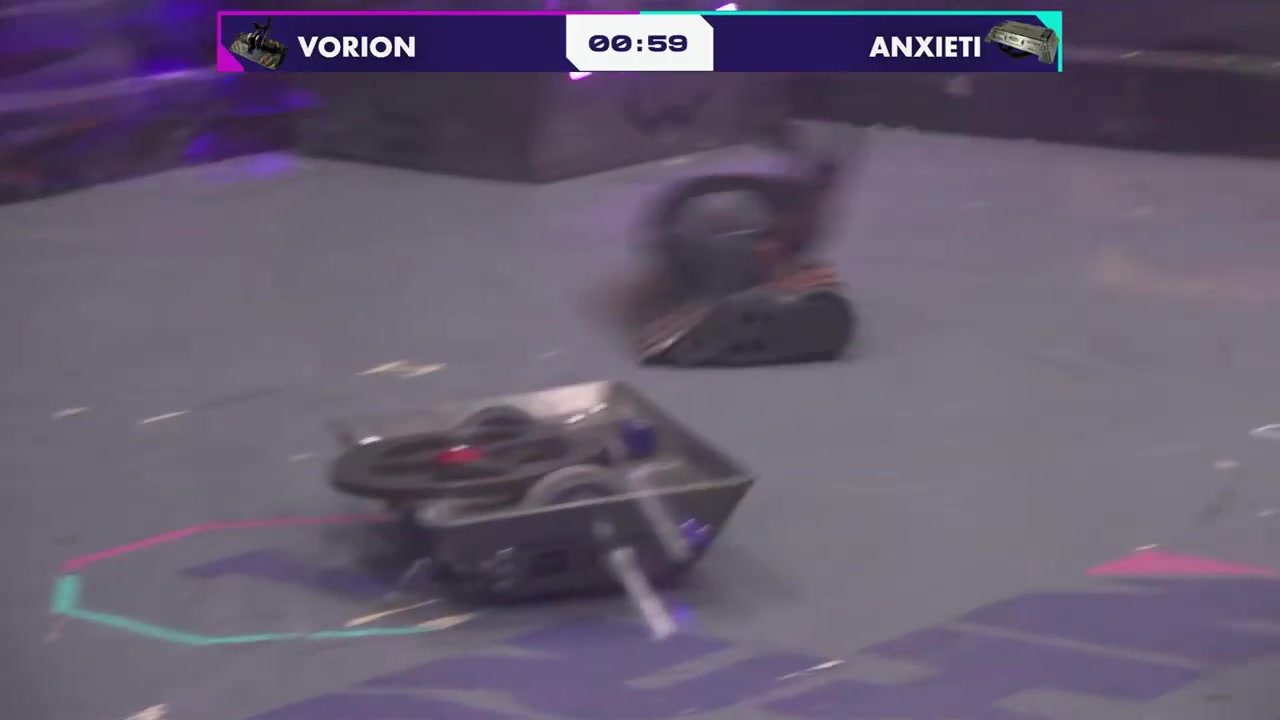combatbot: (327, 380, 752, 605), (625, 218, 856, 365)
